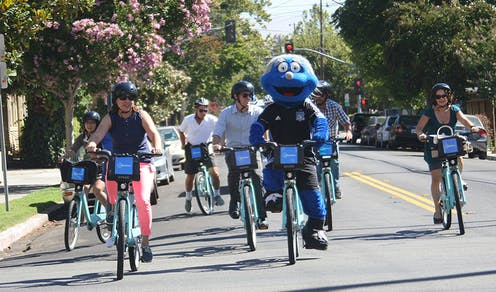cyclist_front: (95, 79, 167, 287), (416, 80, 483, 237), (216, 78, 269, 253), (52, 104, 112, 255), (176, 92, 224, 217)
